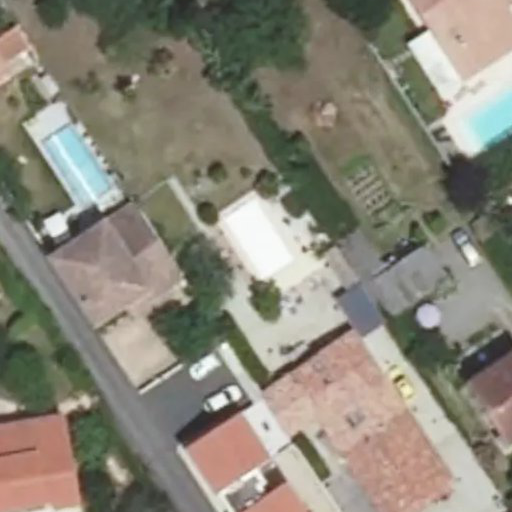pool: (221, 221, 290, 262)
